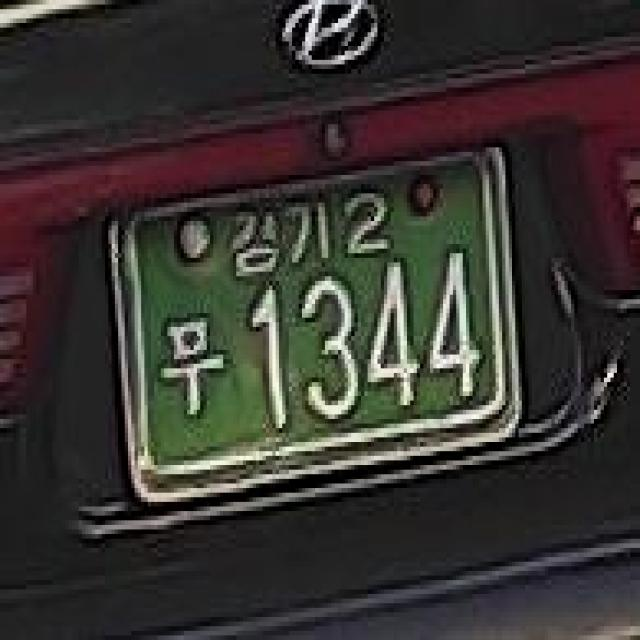illegal_plate: (95, 142, 541, 524)
